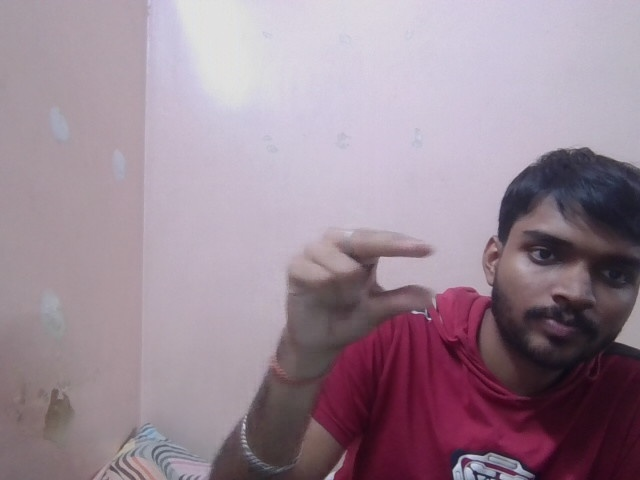No: (281, 217, 434, 332)
